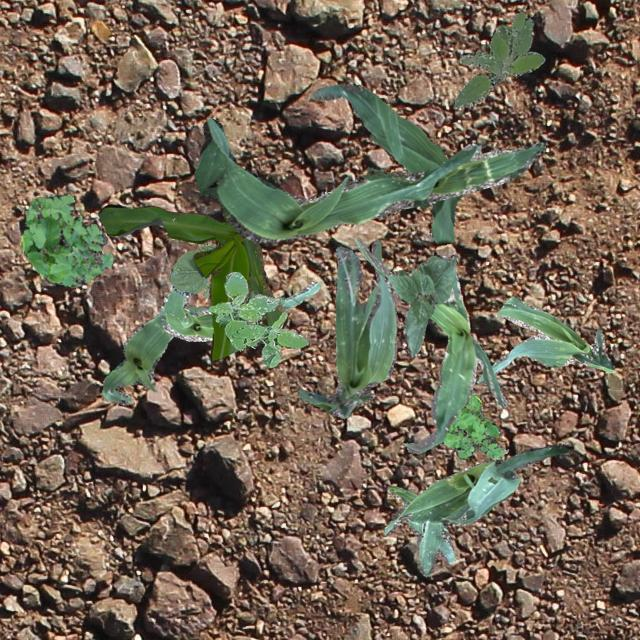crop: (193, 116, 544, 242), (354, 237, 506, 452), (98, 203, 286, 359), (382, 444, 572, 576), (310, 82, 460, 244), (298, 238, 397, 418), (476, 294, 614, 382), (100, 304, 208, 404), (160, 280, 320, 340), (382, 254, 456, 356), (170, 242, 254, 298)
weed: (208, 272, 308, 366), (452, 11, 544, 108), (19, 192, 112, 286), (442, 392, 508, 458)
